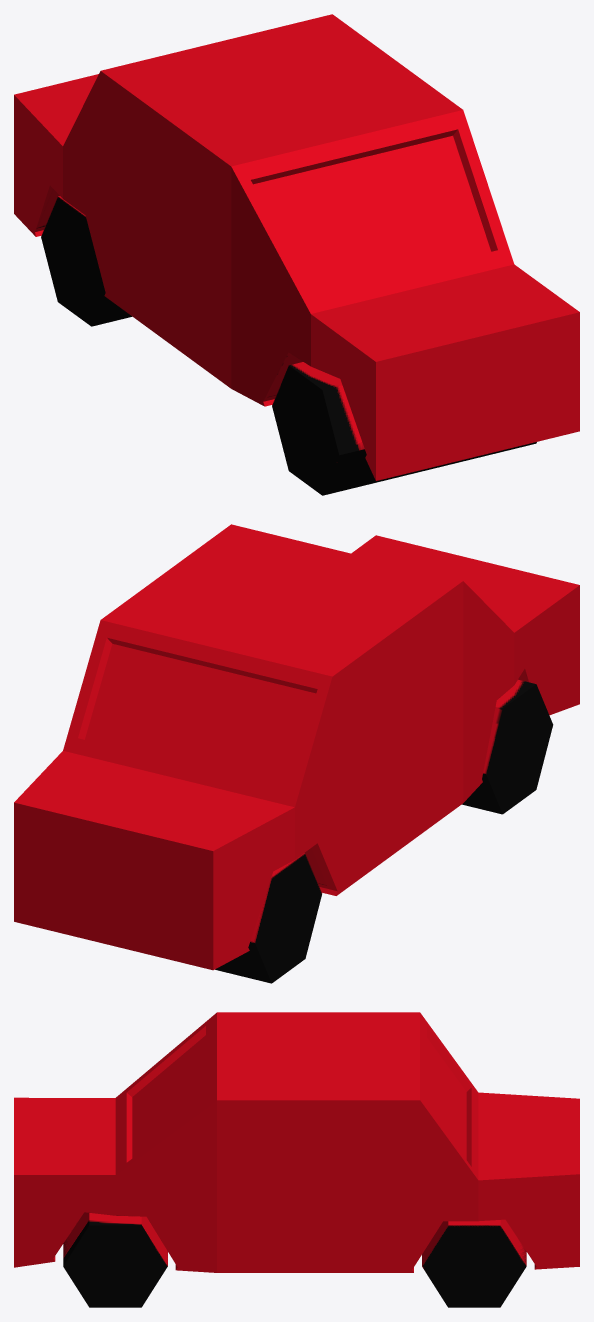
File: car.fbx
3 renders of one model, top to bottom at view 1: azimuth 30°, elevation 25°; view 2: azimuth 150°, elevation 25°; view 3: azimuth 270°, elevation 25°, orthographic. The views are drawn at different scales.
Parts seen in each view (by area): view 1: car_bake; view 2: car_bake; view 3: car_bake.
Boxes of the visible parts, <box> form: car_bake: <box>14,14,579,495</box>; car_bake: <box>14,524,579,983</box>; car_bake: <box>14,1012,579,1307</box>.
Size of the model in its own units: 23.42 by 26.17 by 63.7.
1 material, 1 textured.
